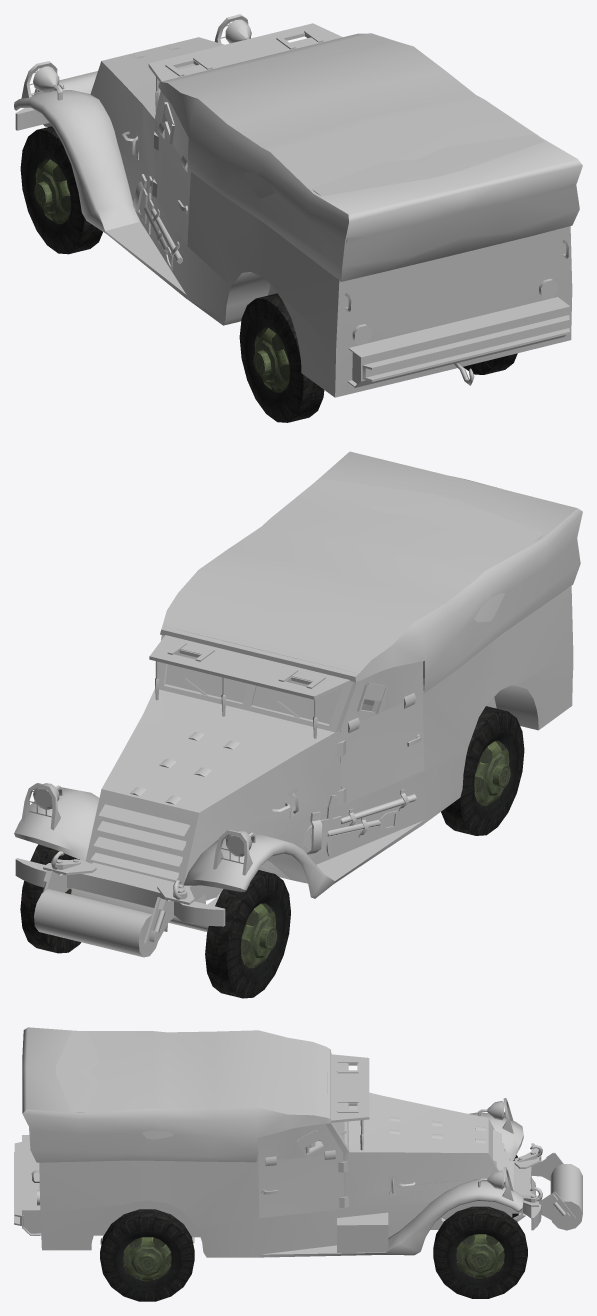
Rendered from WW2_M3A1_Scout_Car.FBX.
The picture shows the model from 3 angles, top to bottom: view 1: azimuth 30°, elevation 25°; view 2: azimuth 150°, elevation 25°; view 3: azimuth 270°, elevation 25°; orthographic projection. The views are drawn at different scales.
Parts seen in each view (by area): view 1: m3a1_body, m3a1_roof, m3a1_wheel01, m3a1_wheel00, m3a1_doorleft, m3a1_wheel03; view 2: m3a1_body, m3a1_roof, m3a1_doorleft, m3a1_wheel00, m3a1_wheel01, m3a1_wheel02; view 3: m3a1_body, m3a1_roof, m3a1_wheel02, m3a1_wheel03, m3a1_doorright.
Boxes of the visible parts, <box> form: m3a1_body: <box>14,14,572,397</box>; m3a1_roof: <box>158,33,582,281</box>; m3a1_wheel01: <box>239,293,324,422</box>; m3a1_wheel00: <box>20,126,102,254</box>; m3a1_doorleft: <box>152,94,190,245</box>; m3a1_wheel03: <box>463,353,517,374</box>; m3a1_body: <box>14,522,573,957</box>; m3a1_roof: <box>160,451,582,693</box>; m3a1_doorleft: <box>340,661,424,805</box>; m3a1_wheel00: <box>205,870,290,998</box>; m3a1_wheel01: <box>441,706,524,835</box>; m3a1_wheel02: <box>20,844,80,953</box>; m3a1_body: <box>14,1034,582,1257</box>; m3a1_roof: <box>22,1027,331,1162</box>; m3a1_wheel02: <box>433,1206,527,1298</box>; m3a1_wheel03: <box>100,1209,194,1301</box>; m3a1_doorright: <box>258,1124,344,1218</box>.
Bounding box in the file's own units: 2.56 × 2.69 × 7.05.
